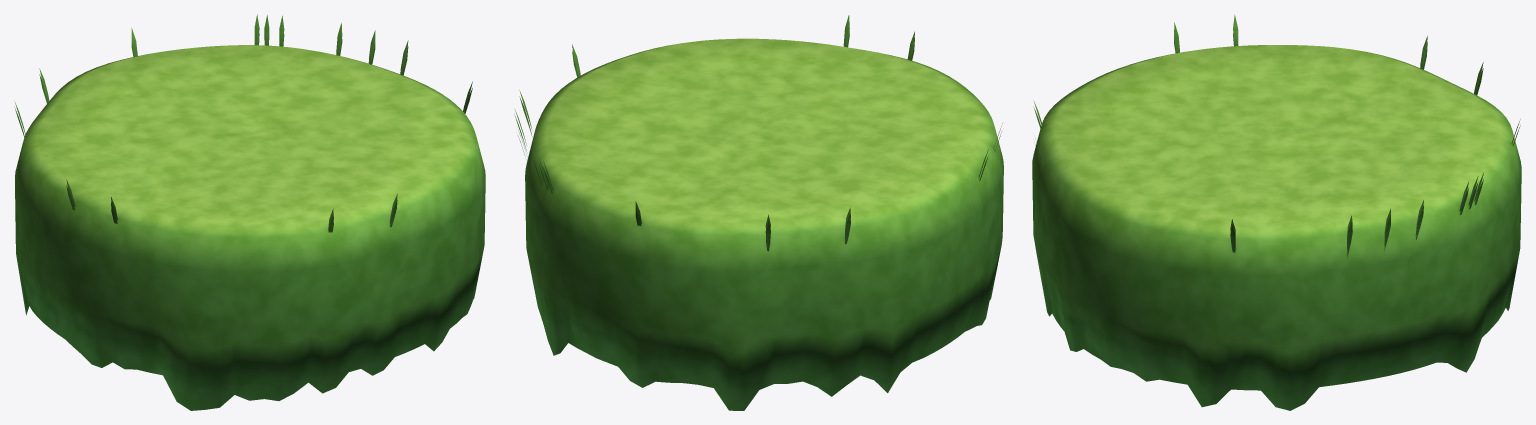
File: Env_GrassCap_3.glb
3 renders of one model, left to right at view 1: azimuth 30°, elevation 25°; view 2: azimuth 150°, elevation 25°; view 3: azimuth 270°, elevation 25°, orthographic. The views are drawn at different scales.
Visible parts, largest first — view 1: Env_GrassCap_3.001; view 2: Env_GrassCap_3.001; view 3: Env_GrassCap_3.001.
Part boxes in pixels (<box>): Env_GrassCap_3.001: <box>14,14,485,410</box>; Env_GrassCap_3.001: <box>514,15,1003,410</box>; Env_GrassCap_3.001: <box>1032,14,1521,410</box>.
Bounding box in the file's own units: 1.98 × 0.9512 × 2.
Materials: 1 (1 with a texture image).
